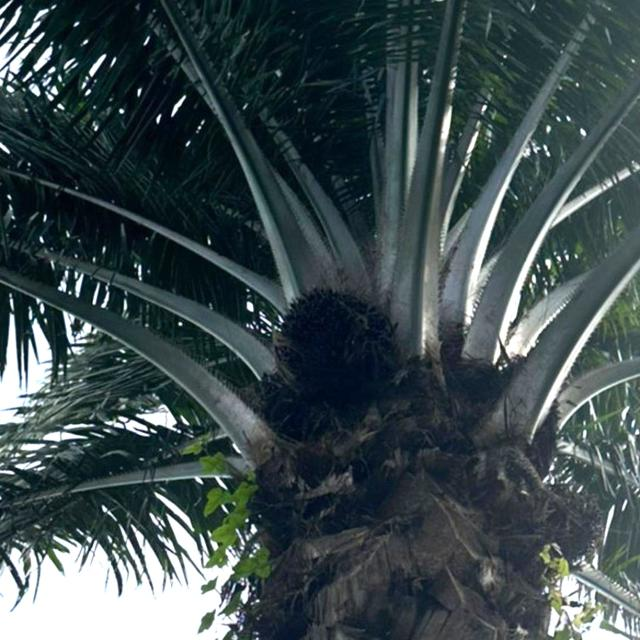almost: (268, 277, 404, 410)
